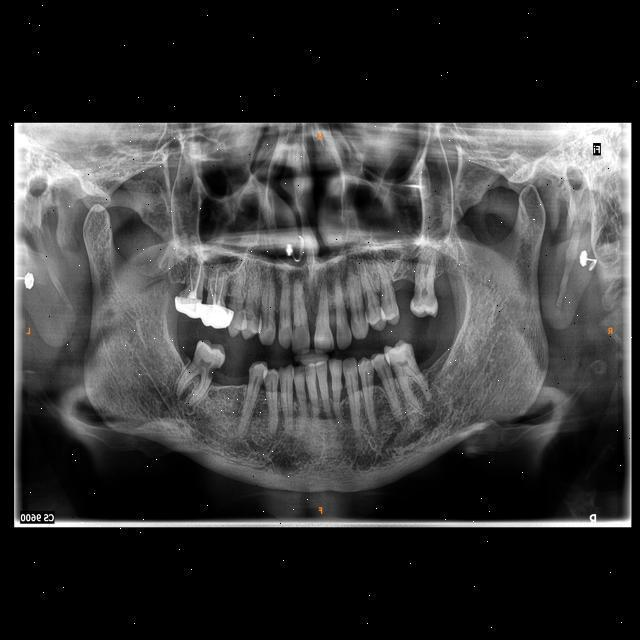dentin-curugu: (205, 363, 223, 385)
kanal-tedavisi: (182, 264, 205, 298), (207, 269, 226, 303)
kaplama: (201, 297, 233, 336), (172, 293, 202, 319)
